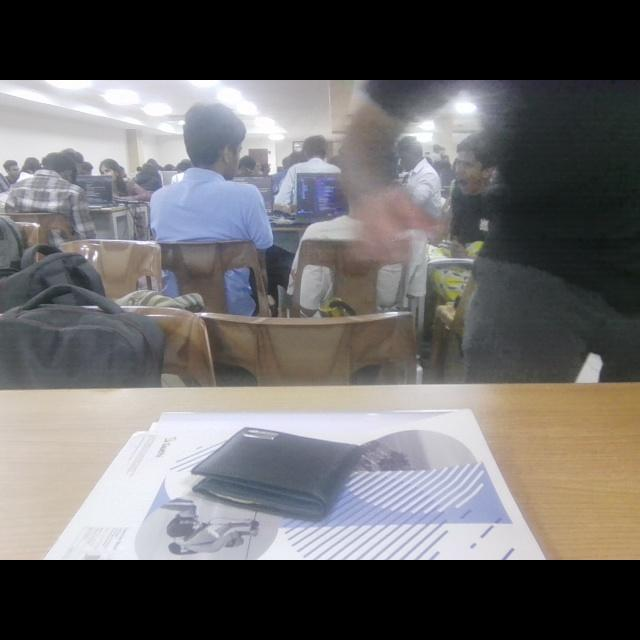wallet: (186, 397, 368, 523)
